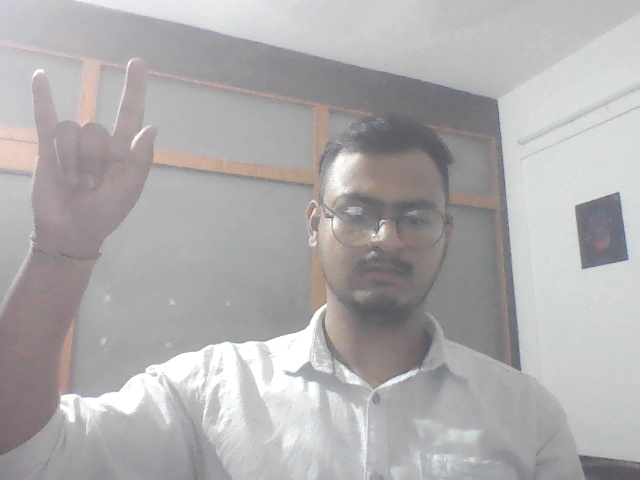I Love You: (25, 55, 164, 251)
